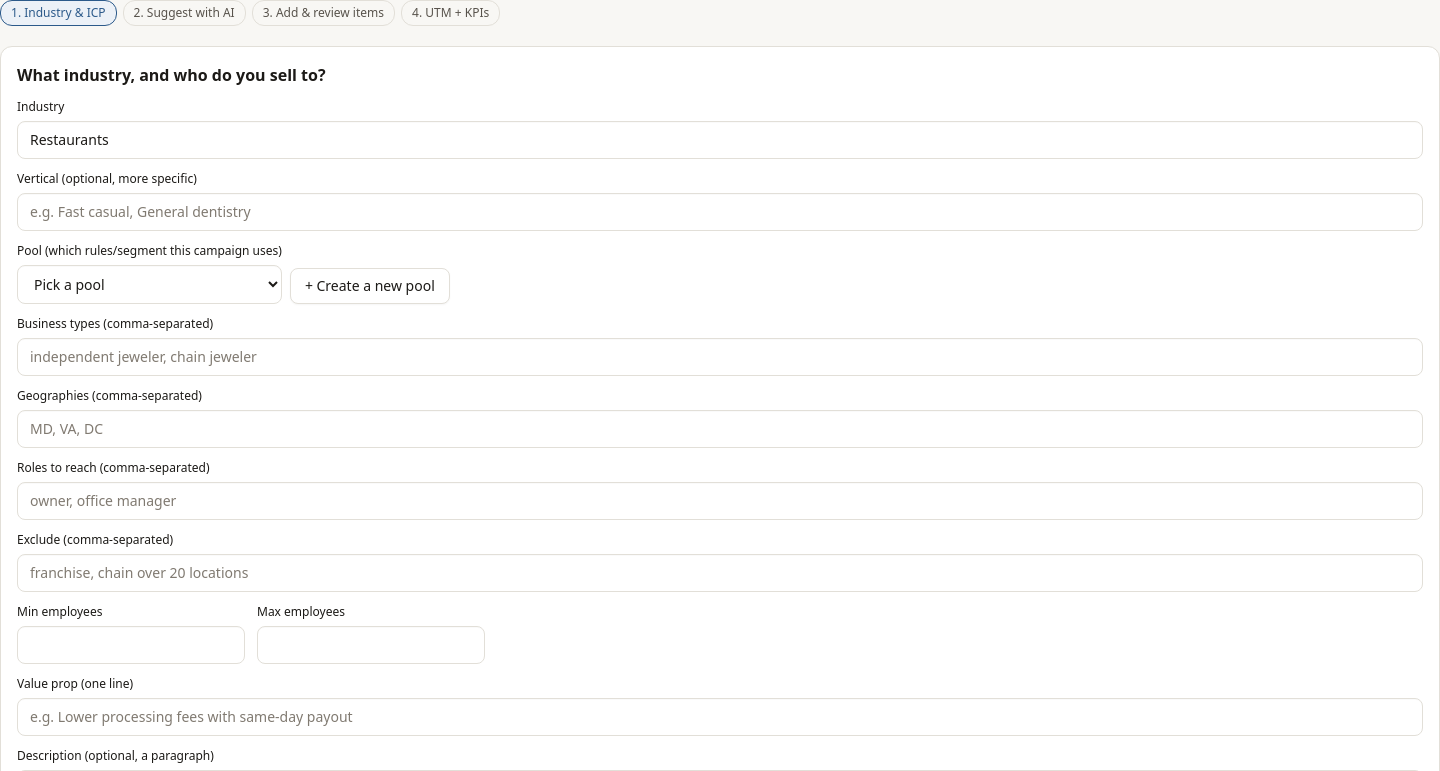
it: Campaign profile wizard › Step 3: renders approved items as chips, grouped by kind, with an add form
Click the button "3. Add & review items". click: (323, 13)
box: [252,0,395,26]
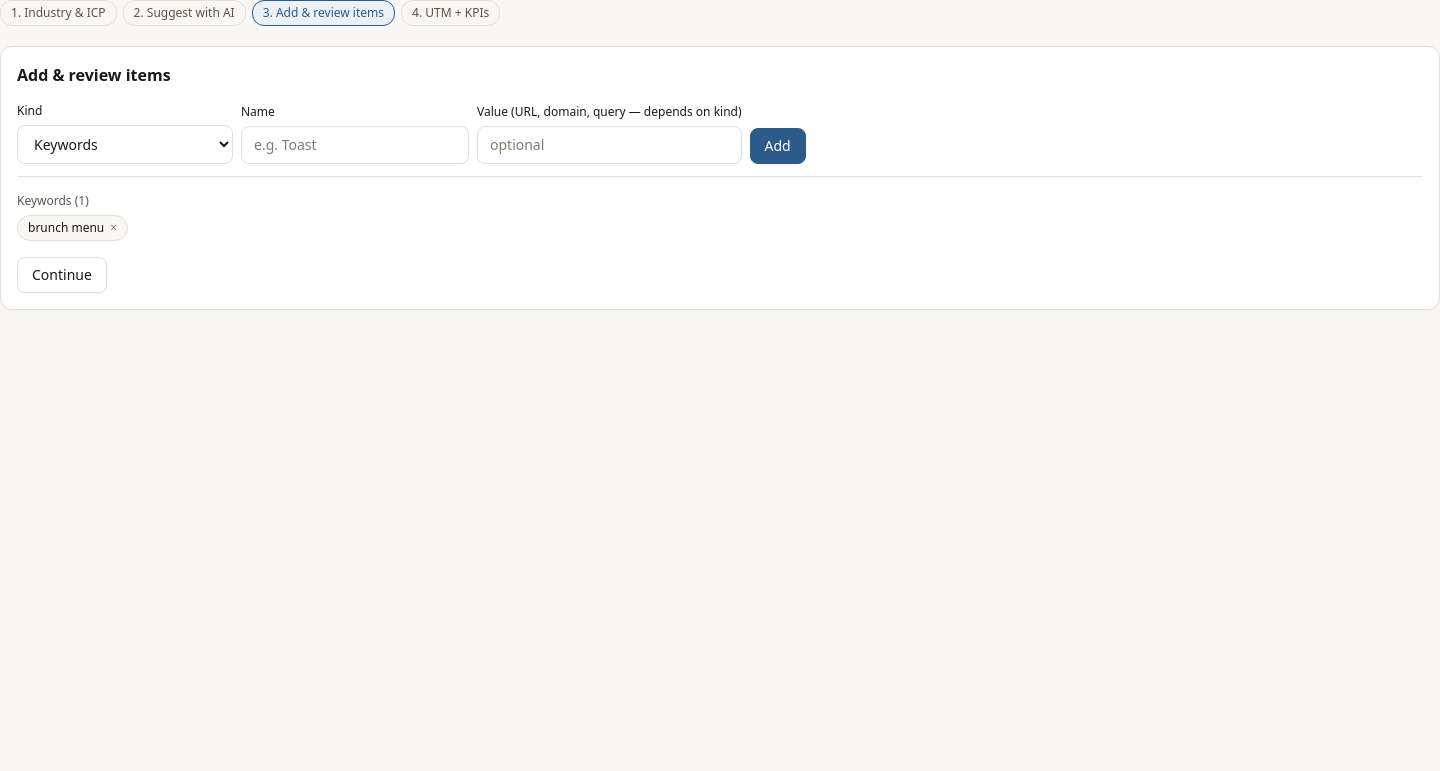
Now the list item "brunch menu" is shown, box [28,219,104,236]
Now the field with placeholder "e.g. Toast" is shown, box [241,126,469,164]
